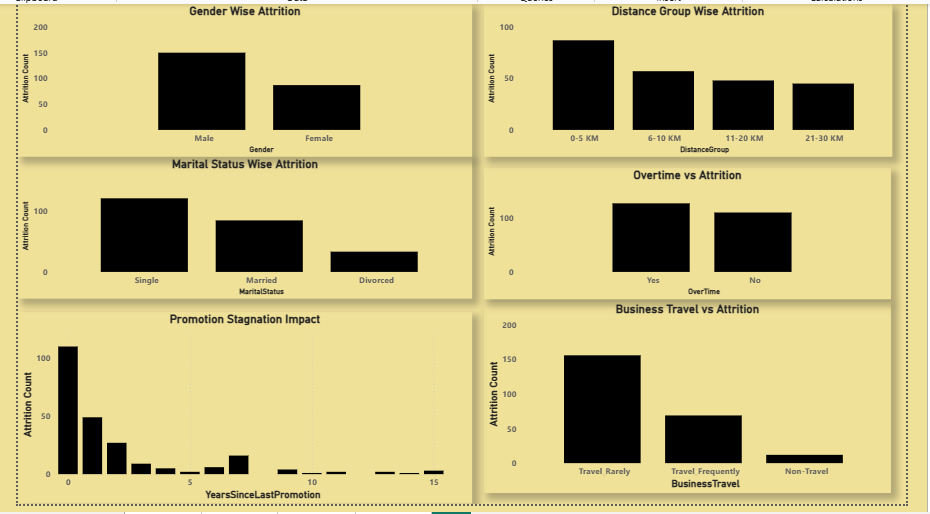

This screenshot's page, from the dashboard's own definition file:
{"tool":"powerbi","page":{"name":"Page 3","canvas":[1280,720],"ordinal":2},"visuals":[{"type":"clusteredColumnChart","title":"Business Travel vs Attrition","fields":{"Category":["Palo_Alto_Cleaned.BusinessTravel"],"Y":["Palo_Alto_Cleaned.Attrition Count"]},"box":[671,429.1,586.1,275],"z":0},{"type":"clusteredColumnChart","title":"Promotion Stagnation Impact","fields":{"Category":["Palo_Alto_Cleaned.YearsSinceLastPromotion"],"Y":["Palo_Alto_Cleaned.Attrition Count"]},"box":[0,443.5,653.8,276.5],"z":1000},{"type":"clusteredColumnChart","title":"Marital Status Wise Attrition","fields":{"Category":["Palo_Alto_Cleaned.MaritalStatus"],"Y":["Palo_Alto_Cleaned.Attrition Count"]},"box":[0,220.3,653.8,204.5],"z":2000},{"type":"clusteredColumnChart","title":"Overtime vs Attrition","fields":{"Category":["Palo_Alto_Cleaned.OverTime"],"Y":["Palo_Alto_Cleaned.Attrition Count"]},"box":[671,236.2,586.1,188.6],"z":3000},{"type":"clusteredColumnChart","title":"Gender Wise Attrition","fields":{"Category":["Palo_Alto_Cleaned.Gender"],"Y":["Palo_Alto_Cleaned.Attrition Count"]},"box":[0,0,653.8,220.3],"z":3001},{"type":"clusteredColumnChart","title":"Distance Group Wise Attrition","fields":{"Category":["Palo_Alto_Cleaned.DistanceGroup"],"Y":["Palo_Alto_Cleaned.Attrition Count"]},"box":[671,0,587.5,220.3],"z":3002}]}

Visuals, with their boxes in screenshot pixels (x1, y1, x2, y2), scaled from the page's 1280x720 canvas onto the 930x514 screenshot:
"Business Travel vs Attrition" clusteredColumnChart: (x1=488, y1=306, x2=913, y2=503)
"Promotion Stagnation Impact" clusteredColumnChart: (x1=0, y1=317, x2=475, y2=513)
"Marital Status Wise Attrition" clusteredColumnChart: (x1=0, y1=157, x2=475, y2=303)
"Overtime vs Attrition" clusteredColumnChart: (x1=488, y1=169, x2=913, y2=303)
"Gender Wise Attrition" clusteredColumnChart: (x1=0, y1=0, x2=475, y2=157)
"Distance Group Wise Attrition" clusteredColumnChart: (x1=488, y1=0, x2=914, y2=157)
